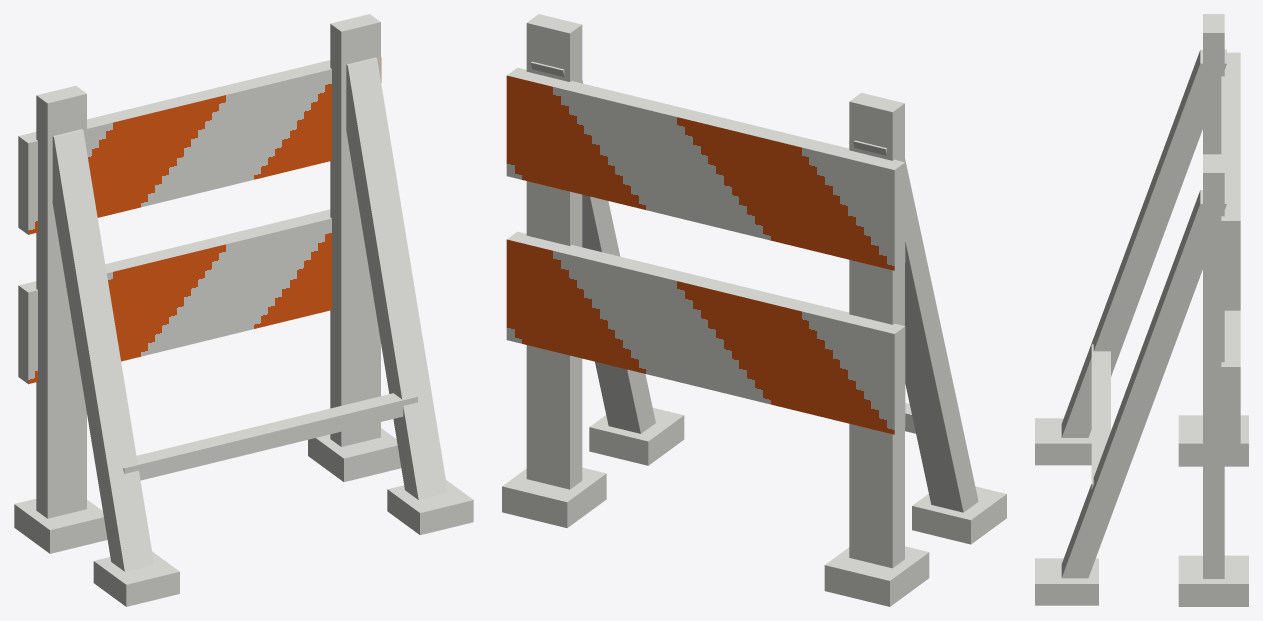
The model's file is workzone_barricade_type2.obj.
3 renders of one model, left to right at view 1: azimuth 30°, elevation 25°; view 2: azimuth 150°, elevation 25°; view 3: azimuth 270°, elevation 25°, orthographic. The views are drawn at different scales.
Parts seen in each view (by area): view 1: workzone_barricade_type2; view 2: workzone_barricade_type2; view 3: workzone_barricade_type2.
Boxes of the visible parts, box(x1,y1,x2,y2) form: workzone_barricade_type2: box(14, 14, 473, 606); workzone_barricade_type2: box(502, 14, 1006, 606); workzone_barricade_type2: box(1035, 14, 1248, 606).
Size of the model in its own units: 0.7812 by 0.9281 by 0.4188.
